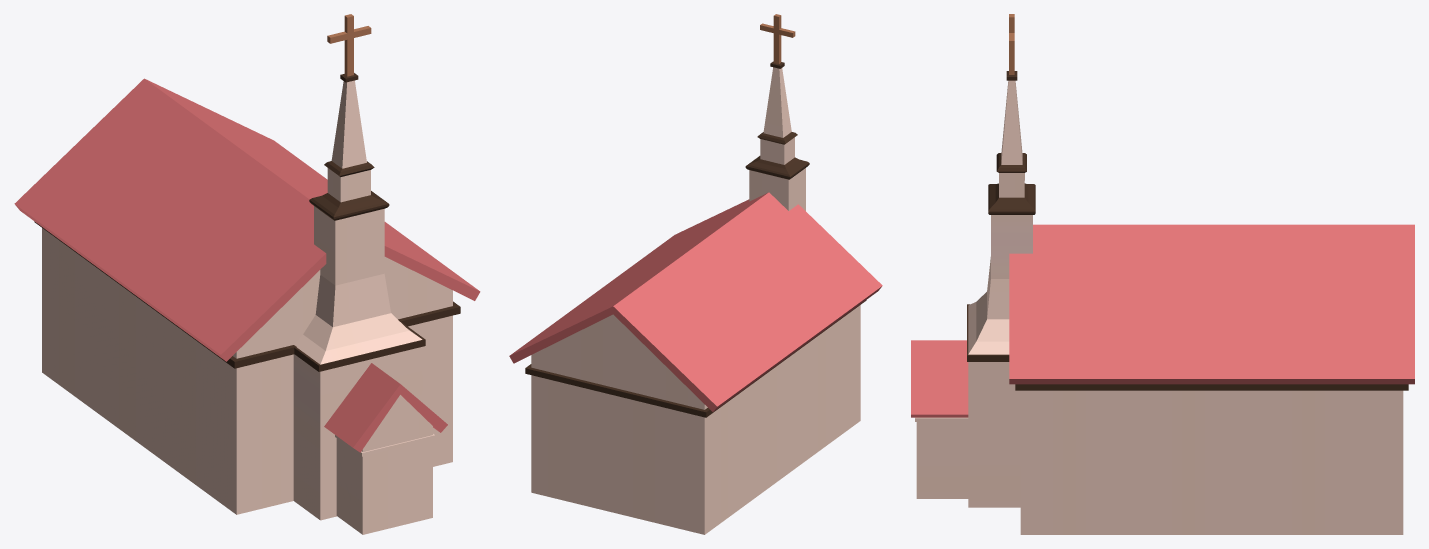
The model's file is Church.fbx.
3 views of the same model, side by side, from view 1: azimuth 30°, elevation 25°; view 2: azimuth 150°, elevation 25°; view 3: azimuth 270°, elevation 25° (orthographic). The views are drawn at different scales.
Visible parts, largest first — view 1: Cube.002; view 2: Cube.002; view 3: Cube.002.
Boxes of the visible parts, <box> form: Cube.002: <box>14,14,480,534</box>; Cube.002: <box>509,14,882,534</box>; Cube.002: <box>911,14,1414,534</box>.
Size of the model in its own units: 1124 by 1969 by 1923.
